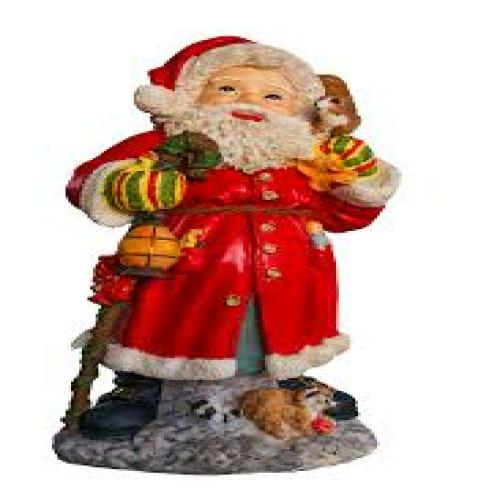Santa: (66, 33, 395, 442)
